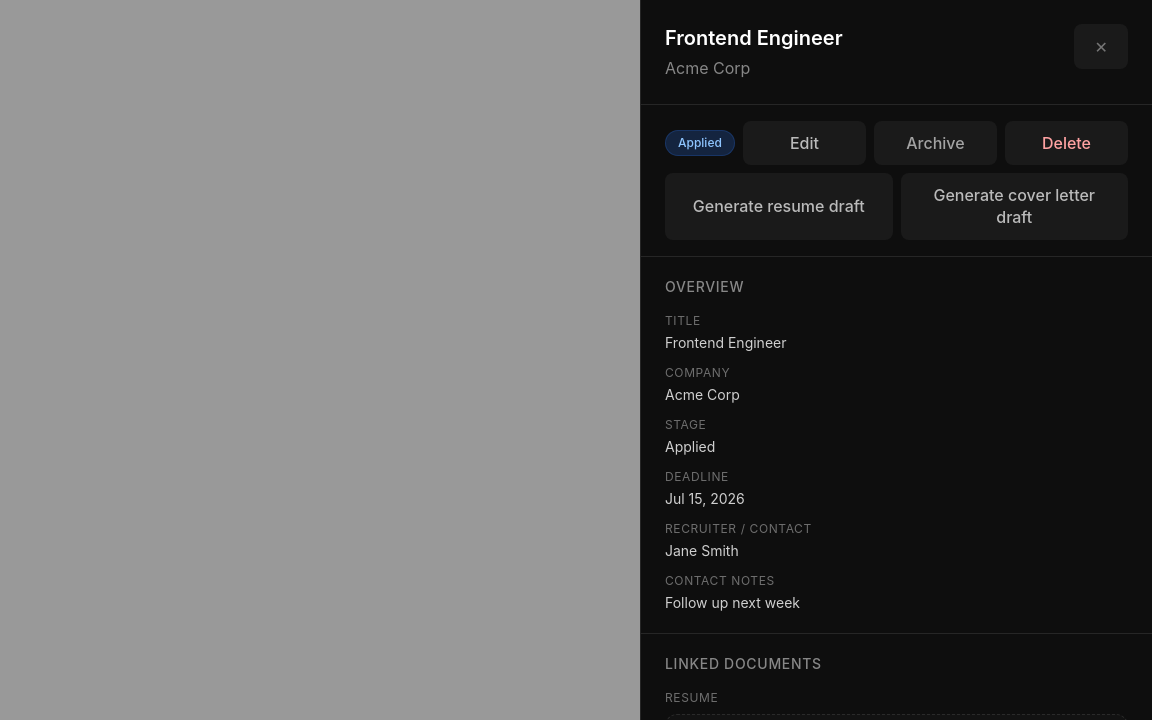
Test: JobDetailPanel › shows failure message when cover letter generation fails
The image size is (1152, 720).
Click the button "Generate cover letter draft" at (1014, 206), box [900,173,1128,240]
(page scrolled)
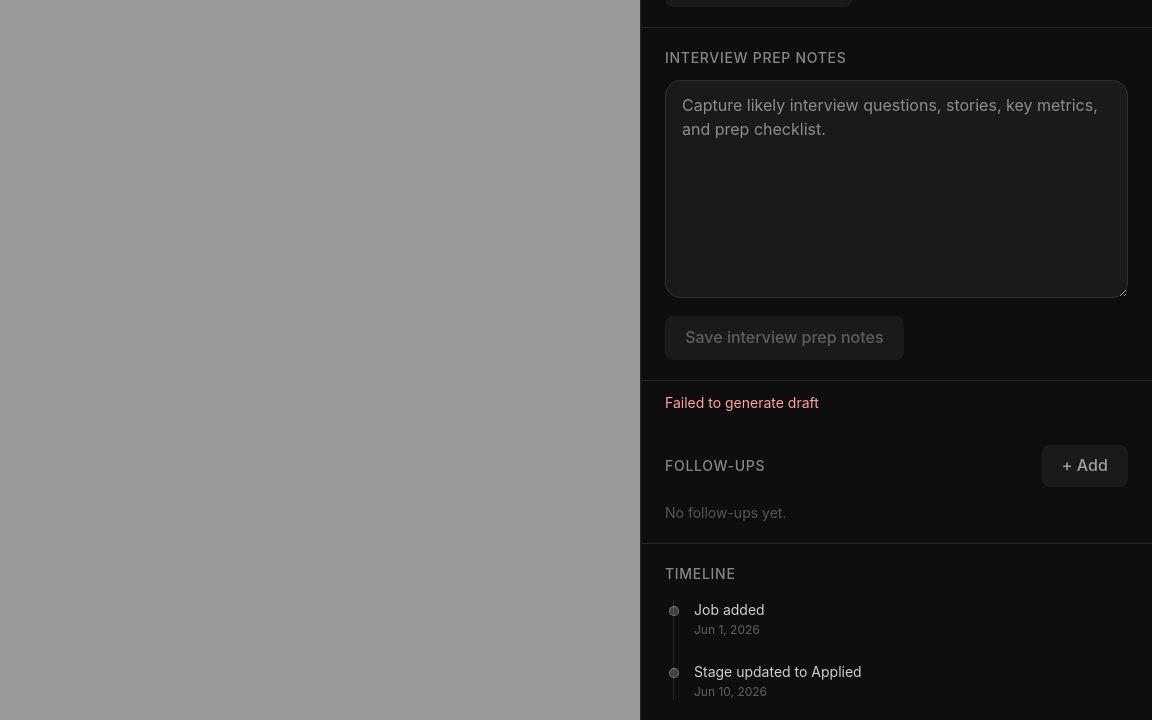
Check: the text "Failed to generate draft" is shown, box [665,394,819,411]
